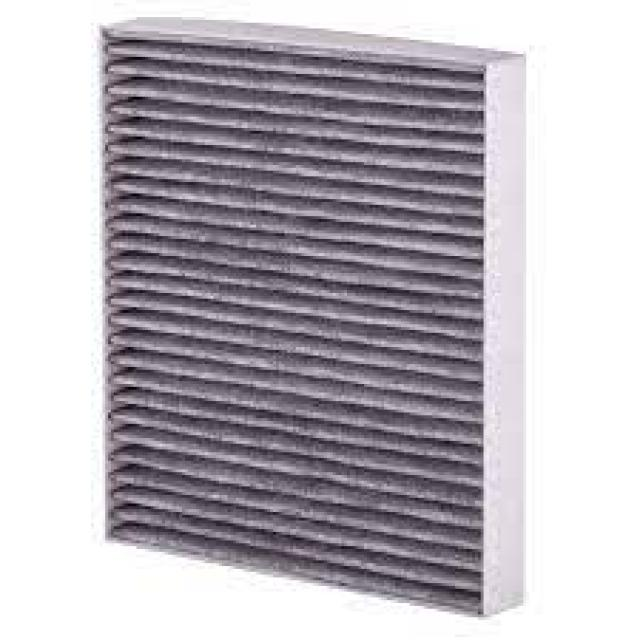air_filter: (95, 29, 518, 612)
